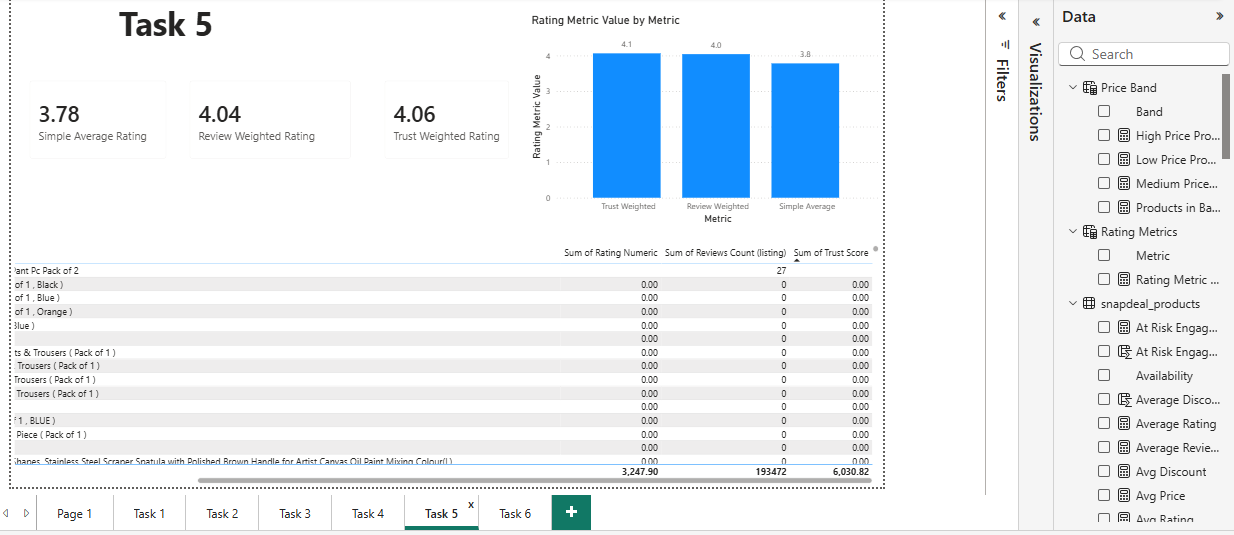

Layout of this report page (visuals, bound fields, positions):
{"tool":"powerbi","page":{"name":"Task 5","canvas":[1280,720],"ordinal":5},"visuals":[{"type":"cardVisual","fields":{"Data":["snapdeal_products.Simple Average Rating"]},"box":[10.3,105.8,235.1,149.9],"z":0},{"type":"cardVisual","fields":{"Data":["snapdeal_products.Review Weighted Rating"]},"box":[245.4,105.8,271.8,149.9],"z":1000},{"type":"cardVisual","fields":{"Data":["snapdeal_products.Trust Weighted Rating"]},"box":[531.9,105.8,217.5,149.9],"z":2000},{"type":"tableEx","fields":{"Values":["snapdeal_products.Product Name","Sum(snapdeal_products.Rating Numeric)","Sum(snapdeal_products.Reviews Count (listing))","Sum(snapdeal_products.Trust Score)"]},"box":[0,360,1279.8,360],"z":3000},{"type":"clusteredColumnChart","fields":{"Category":["Rating Metrics.Metric"],"Y":["Rating Metrics.Rating Metric Value"]},"box":[759.7,23.5,520.2,314.4],"z":3001},{"type":"textbox","box":[99.9,0,255.7,82.3],"z":3002}]}

Visuals, with their boxes on the page's 1280x720 design canvas (x1, y1, x2, y2). These are canvas units, not pixel positions in the 1234x535 screenshot, which may show the page scaled, cropped or inside an application window:
cardVisual - snapdeal_products.Simple Average Rating: 10:106:245:256
cardVisual - snapdeal_products.Review Weighted Rating: 245:106:517:256
cardVisual - snapdeal_products.Trust Weighted Rating: 532:106:749:256
tableEx - snapdeal_products.Product Name x Sum(snapdeal_products.Rating Numeric): 0:360:1280:720
clusteredColumnChart - Rating Metrics.Metric x Rating Metrics.Rating Metric Value: 760:24:1280:338
textbox: 100:0:356:82
